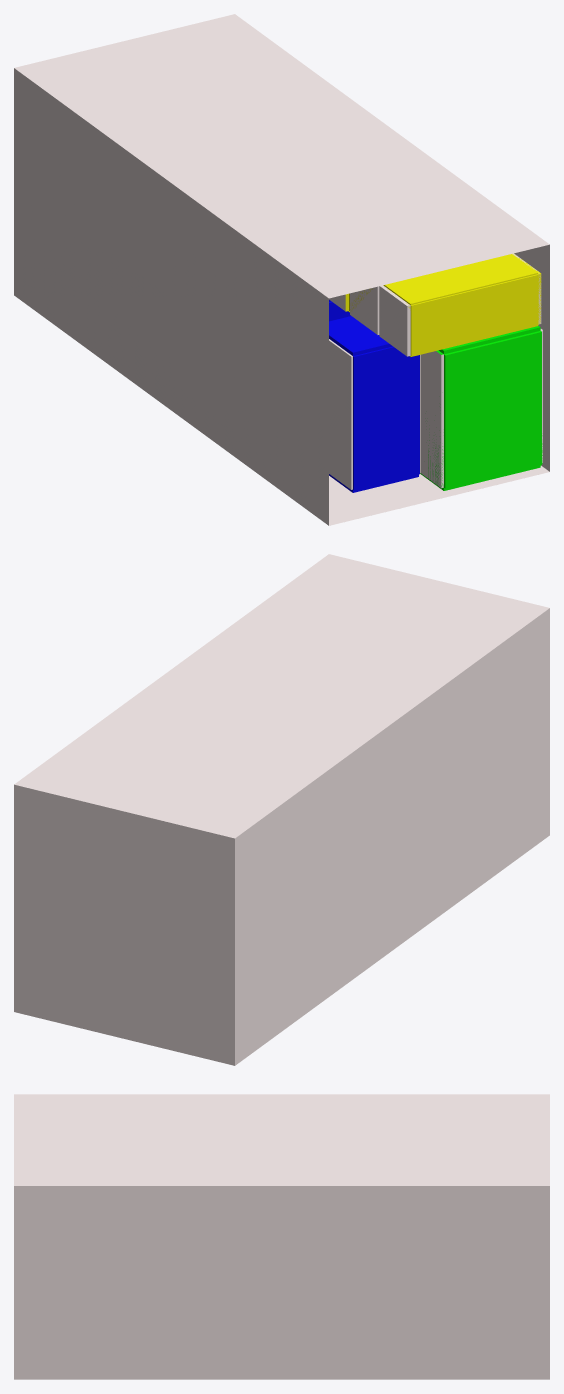
Rendered from Bins.fbx.
3 renders of one model, top to bottom at view 1: azimuth 30°, elevation 25°; view 2: azimuth 150°, elevation 25°; view 3: azimuth 270°, elevation 25°, orthographic. The views are drawn at different scales.
Parts seen in each view (by area): view 1: bintop, BinIso20Bottom, binleft, front_3, front_5, front_12, binbottom, top_12, binright, top_5; view 2: BinIso20Bottom, bintop, binback; view 3: binright, bintop.
Boxes of the visible parts, x1=… form: bintop: x1=14, y1=14, x2=549, y2=298; BinIso20Bottom: x1=14, y1=74, x2=542, y2=525; binleft: x1=14, y1=68, x2=324, y2=515; front_3: x1=444, y1=331, x2=541, y2=488; front_5: x1=353, y1=346, x2=419, y2=490; front_12: x1=410, y1=274, x2=538, y2=356; binbottom: x1=329, y1=465, x2=549, y2=525; top_12: x1=383, y1=254, x2=537, y2=305; binright: x1=514, y1=244, x2=549, y2=471; top_5: x1=329, y1=316, x2=392, y2=355; BinIso20Bottom: x1=235, y1=608, x2=549, y2=1065; bintop: x1=14, y1=554, x2=549, y2=838; binback: x1=14, y1=784, x2=234, y2=1065; binright: x1=14, y1=1186, x2=549, y2=1379; bintop: x1=14, y1=1094, x2=549, y2=1185.
Bounding box in the file's own units: 2390 × 2350 × 5900.
